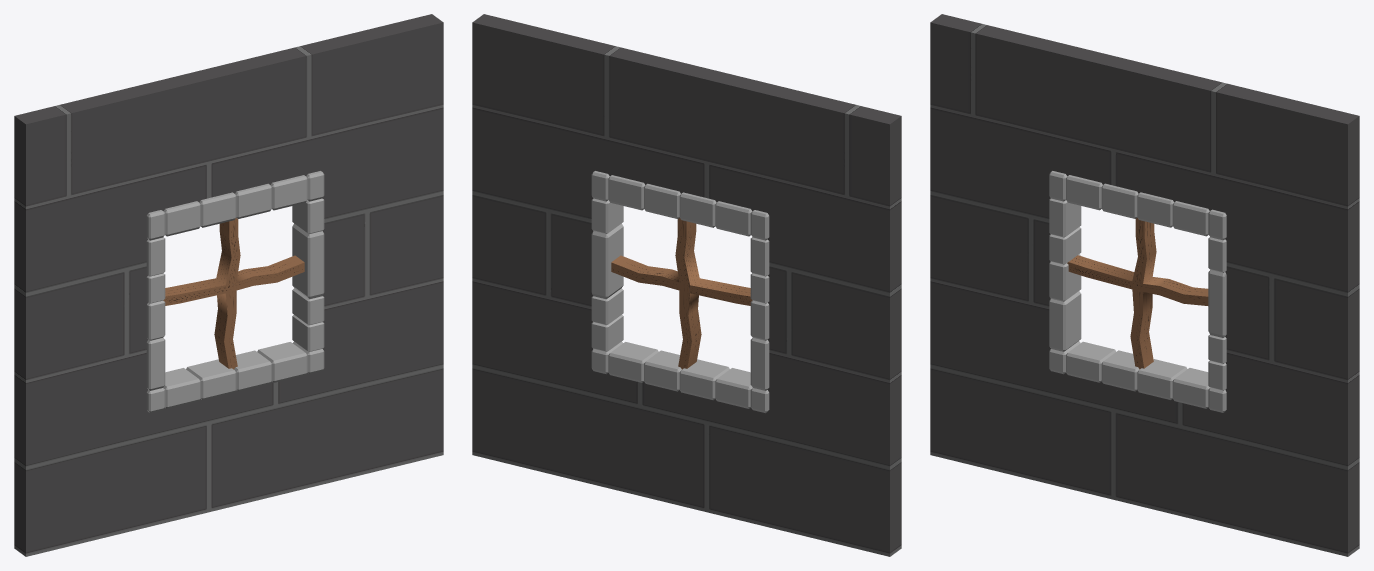
File: wallWindowClosed.fbx
The picture shows the model from 3 angles, left to right: view 1: azimuth 30°, elevation 25°; view 2: azimuth 150°, elevation 25°; view 3: azimuth 330°, elevation 25°; orthographic projection.
Visible parts, largest first — view 1: geo_windowBars; view 2: geo_windowBars; view 3: geo_windowBars.
Part boxes in pixels (box(x1,y1,x2,y2)): geo_windowBars: box(14, 14, 443, 556); geo_windowBars: box(472, 14, 901, 556); geo_windowBars: box(930, 14, 1359, 556).
Size of the model in its own units: 908 by 898 by 63.68.
Materials: 3 (2 with a texture image).
